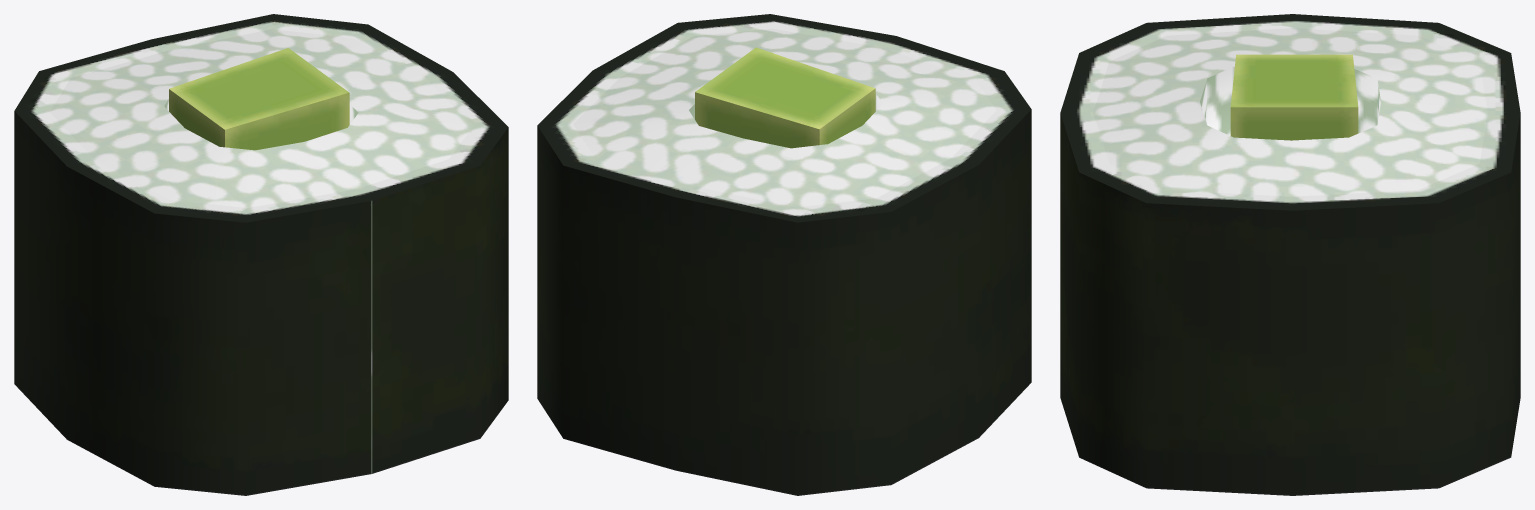
File: Sushi_Roll_Avocado.fbx
3 renders of one model, left to right at view 1: azimuth 30°, elevation 25°; view 2: azimuth 150°, elevation 25°; view 3: azimuth 270°, elevation 25°, orthographic. The views are drawn at different scales.
Visible parts, largest first — view 1: Sushi_Roll_Avocado; view 2: Sushi_Roll_Avocado; view 3: Sushi_Roll_Avocado.
Boxes of the visible parts, <box> form: Sushi_Roll_Avocado: <box>14,14,508,495</box>; Sushi_Roll_Avocado: <box>537,14,1031,495</box>; Sushi_Roll_Avocado: <box>1060,14,1520,495</box>.
Size of the model in its own units: 0.2951 by 0.2242 by 0.2917.
Materials: 1 (1 with a texture image).
